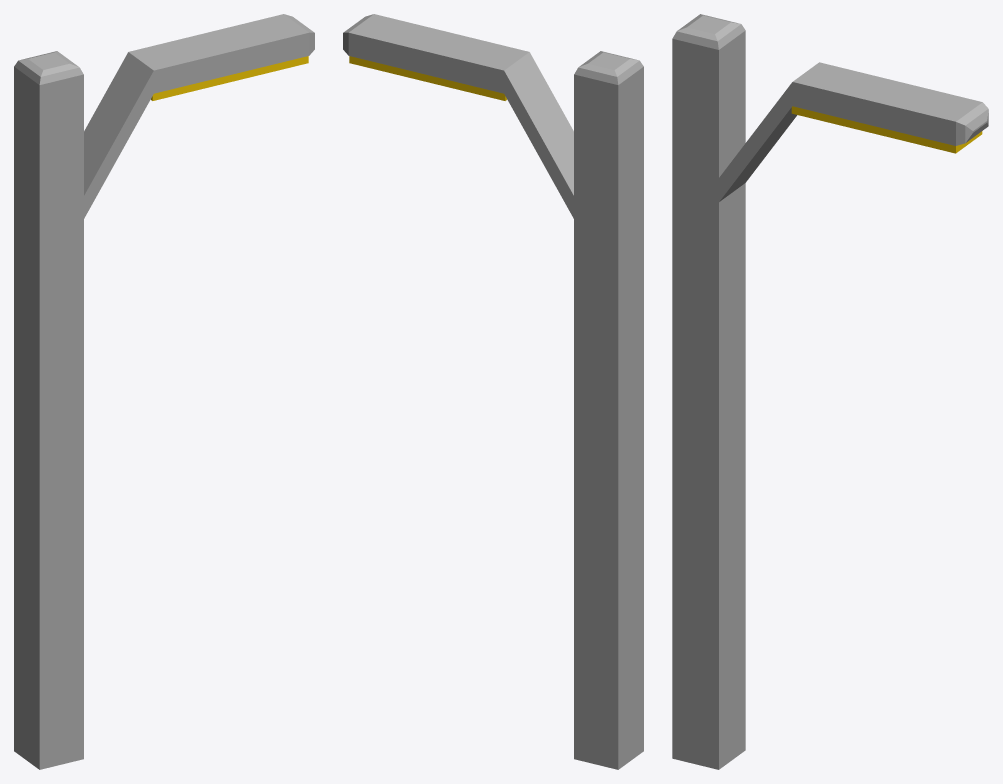
Rendered from Lampu Jalan (1).fbx.
3 views of the same model, side by side, from view 1: azimuth 30°, elevation 25°; view 2: azimuth 150°, elevation 25°; view 3: azimuth 330°, elevation 25° (orthographic). The views are drawn at different scales.
Parts seen in each view (by area): view 1: Tiang.001, Lampu; view 2: Tiang.001, Lampu; view 3: Tiang.001, Lampu.
Part boxes in pixels (x1,y1,x2,y2): Tiang.001: (14, 14, 314, 769); Lampu: (151, 56, 308, 100); Tiang.001: (343, 14, 643, 769); Lampu: (349, 56, 506, 100); Tiang.001: (672, 14, 988, 769); Lampu: (791, 106, 982, 153).
Bounding box in the file's own units: 380 × 900 × 60.
